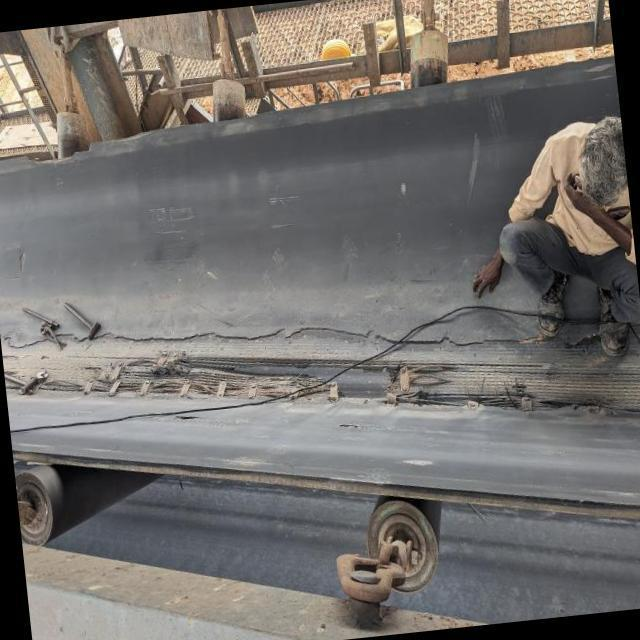Tear: (0, 324, 640, 422)
